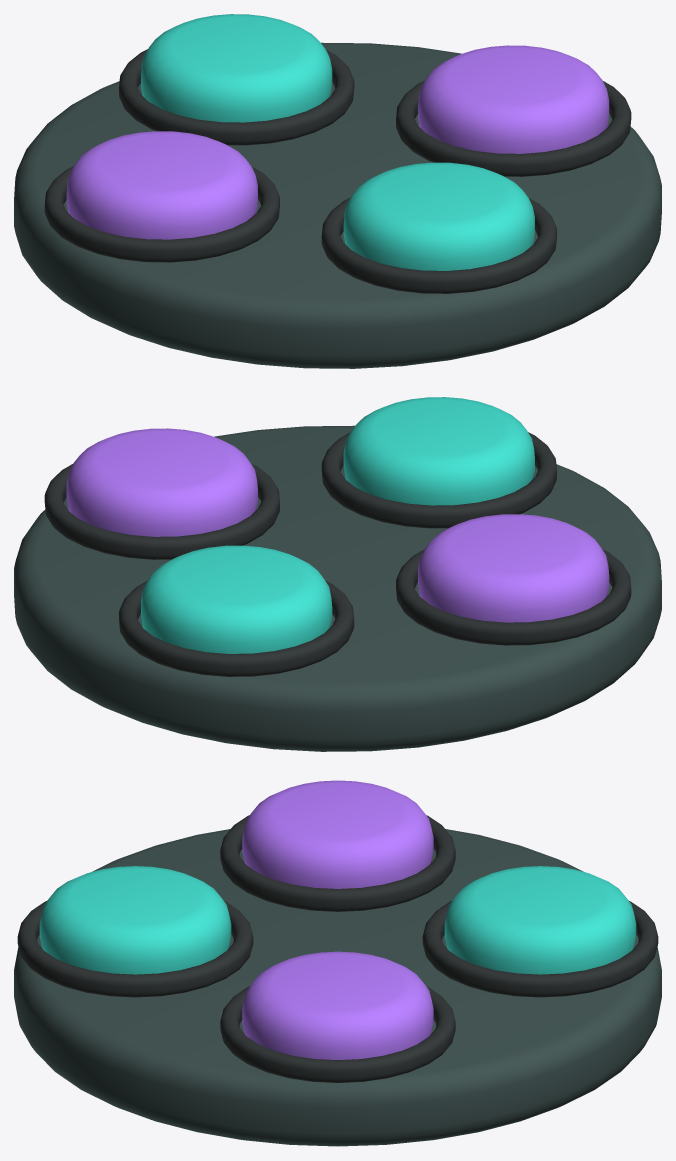
Rendered from simon_pad.glb.
3 views of the same model, one above another, from view 1: azimuth 30°, elevation 25°; view 2: azimuth 150°, elevation 25°; view 3: azimuth 270°, elevation 25° (orthographic).
Visible parts, largest first — view 1: Plate, Cap_right_up, Cap_right_down, Cap_right_right, Cap_right_left, Ring_right_left, Ring_right_down, Ring_right_up, Ring_right_right; view 2: Plate, Cap_right_down, Cap_right_right, Cap_right_up, Cap_right_left, Ring_right_left, Ring_right_up, Ring_right_down, Ring_right_right; view 3: Plate, Cap_right_down, Cap_right_up, Cap_right_left, Cap_right_right, Ring_right_down, Ring_right_up, Ring_right_left, Ring_right_right.
Boxes of the visible parts, box(x1,y1,x2,y2) form: Plate: box(14, 42, 661, 368); Cap_right_up: box(141, 14, 332, 122); Cap_right_down: box(343, 162, 534, 270); Cap_right_right: box(418, 45, 609, 153); Cap_right_left: box(66, 131, 257, 239); Ring_right_left: box(44, 166, 279, 262); Ring_right_down: box(321, 197, 556, 293); Ring_right_up: box(119, 49, 354, 145); Ring_right_right: box(396, 81, 631, 176); Plate: box(14, 425, 661, 751); Cap_right_down: box(343, 397, 534, 505); Cap_right_right: box(66, 428, 257, 536); Cap_right_up: box(141, 545, 332, 653); Cap_right_left: box(418, 514, 609, 622); Ring_right_left: box(396, 549, 631, 645); Ring_right_up: box(119, 580, 354, 676); Ring_right_down: box(321, 432, 556, 528); Ring_right_right: box(44, 464, 279, 559); Plate: box(14, 829, 661, 1146); Cap_right_down: box(39, 866, 231, 974); Cap_right_up: box(444, 866, 636, 974); Cap_right_left: box(242, 780, 433, 888); Cap_right_right: box(242, 951, 433, 1059); Ring_right_down: box(17, 901, 253, 997); Ring_right_up: box(422, 901, 658, 997); Ring_right_left: box(220, 815, 455, 911); Ring_right_right: box(220, 986, 455, 1082).
Size of the model in its own units: 0.176 by 0.036 by 0.176.
